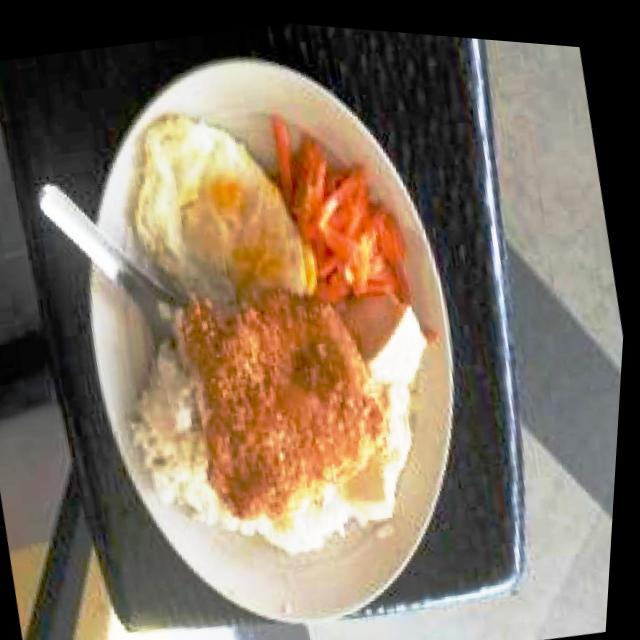fried_chicken: (164, 268, 397, 537)
fried_eggs: (109, 86, 328, 341)
rice: (107, 290, 406, 583)
